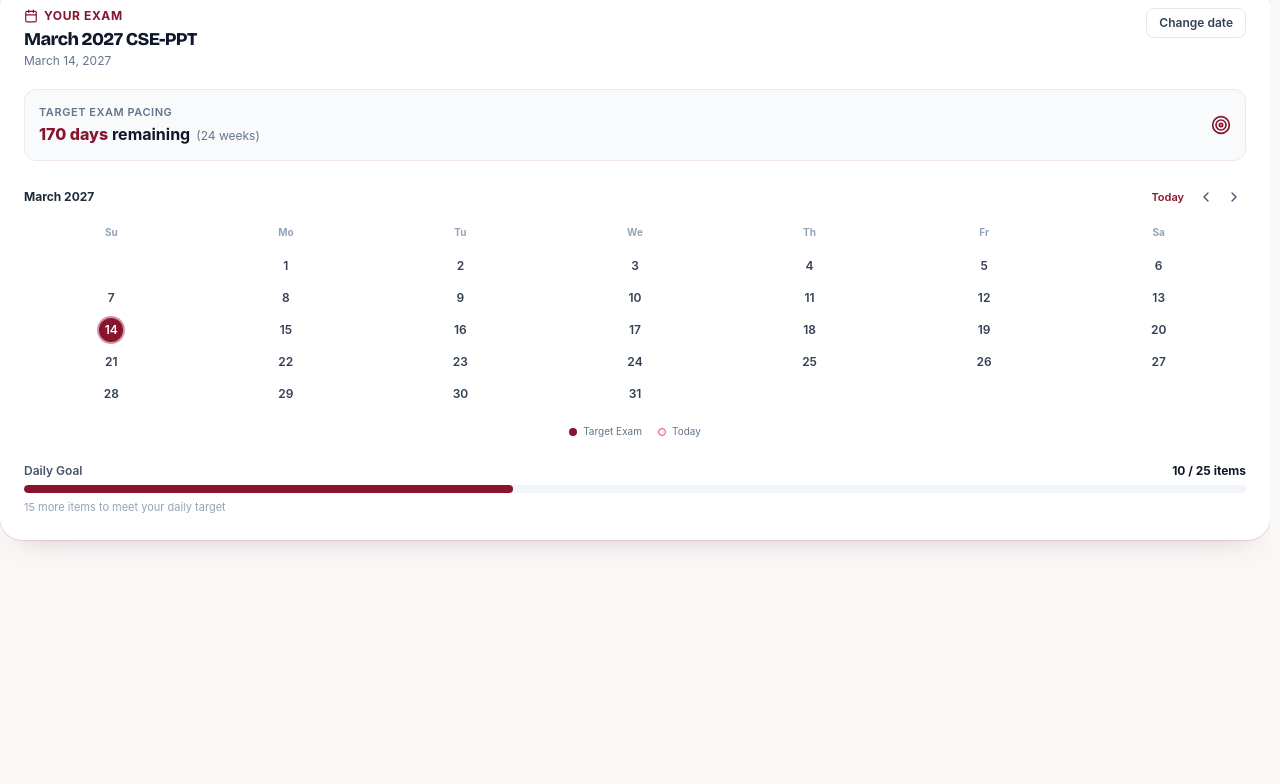
Test: ExamCalendarCard Component › cancels edits and restores previous values when Cancel is clicked
The image size is (1280, 784).
Click the button "Change date".
click(1196, 23)  # box [1146,8,1246,38]
(page scrolled)
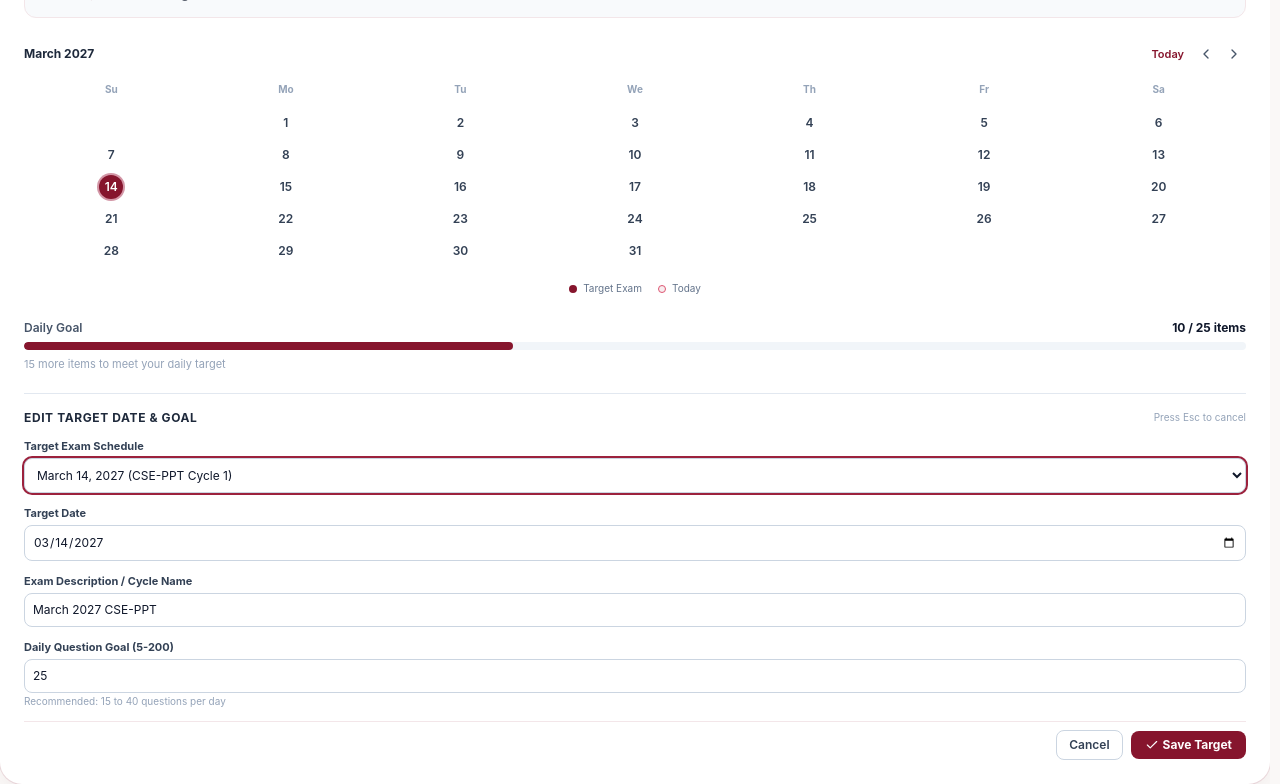
Click the button "Cancel".
click(1089, 744)  # box [1056,730,1123,760]
(page scrolled)
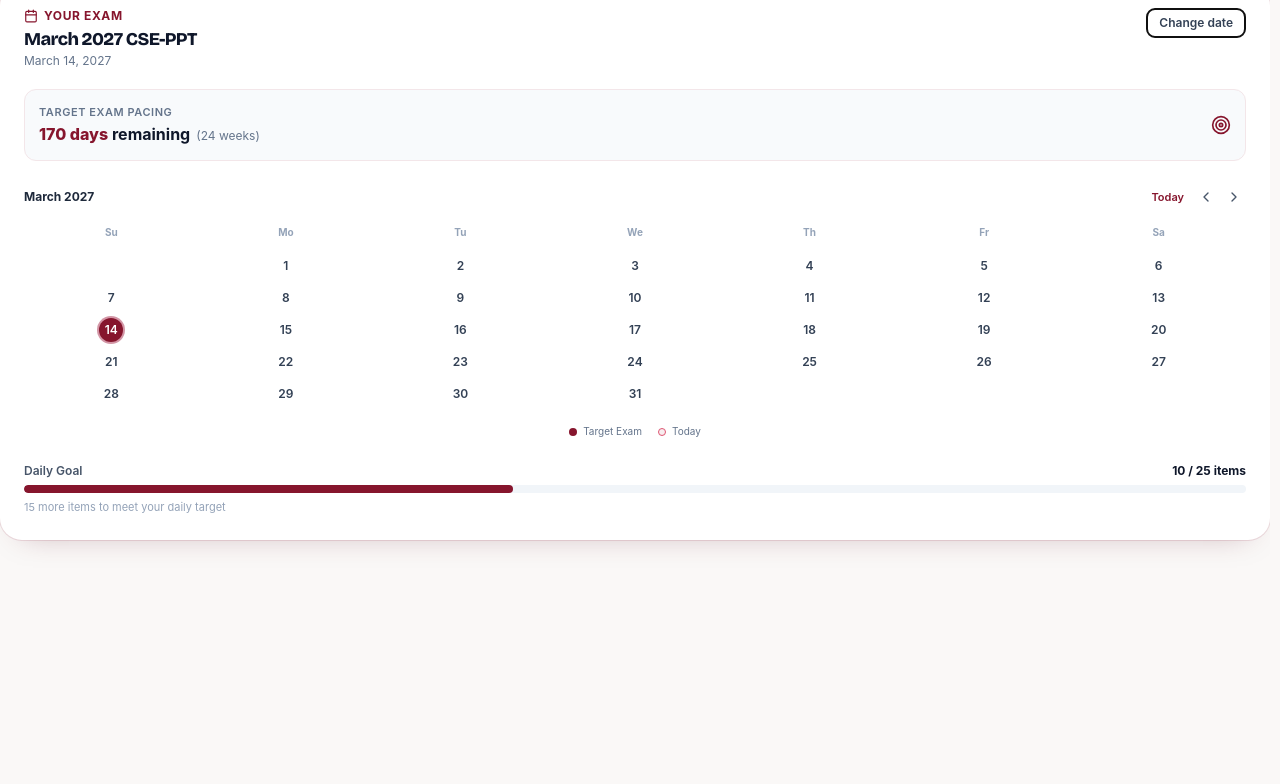
Expected: the heading "March 2027 CSE-PPT" is shown, [24,28,197,50]
Now the heading labelled "Target Date" is gone
